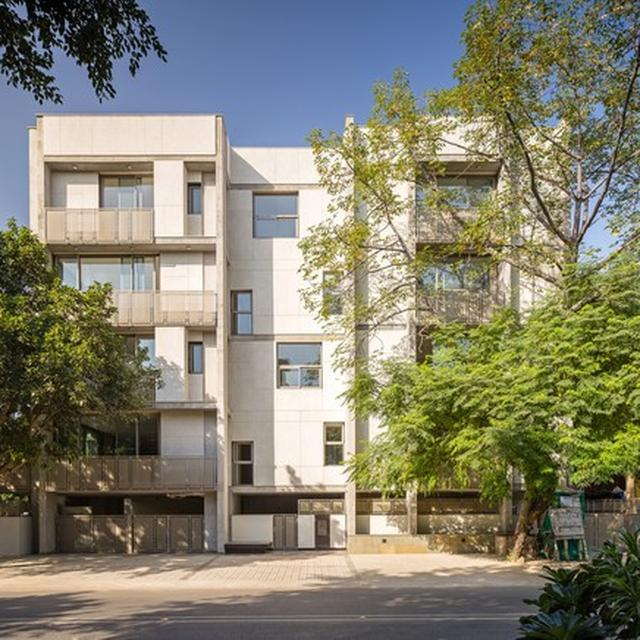building: (26, 112, 569, 538)
